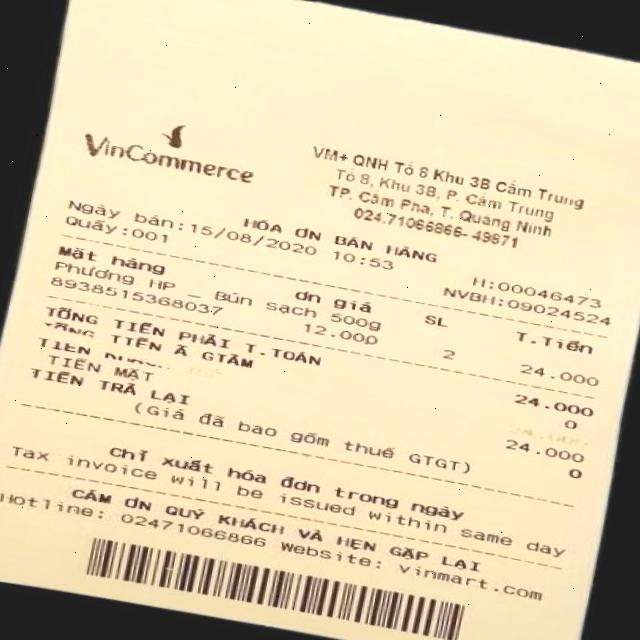Date: (186, 218, 320, 258)
Store_Name: (74, 124, 258, 194)
amount_number: (513, 388, 598, 422)
label_total: (42, 298, 328, 372)
